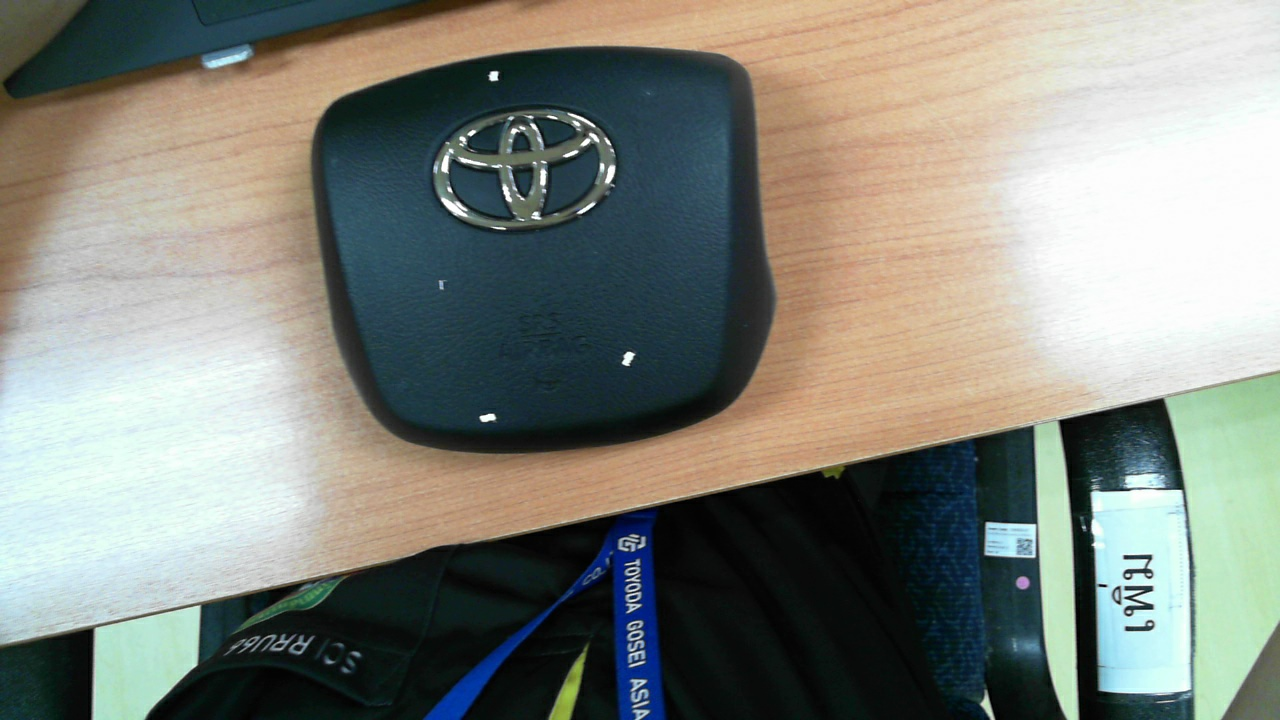Airbag: (309, 44, 776, 451)
Mark: (621, 351, 635, 367), (479, 413, 496, 423), (438, 279, 447, 290), (488, 72, 498, 81)
